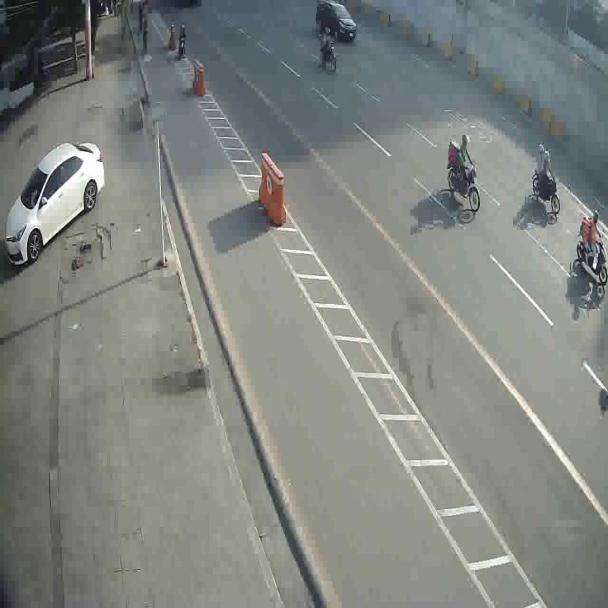motorcyclist: (446, 127, 479, 215), (573, 210, 606, 292), (530, 146, 560, 218), (317, 30, 339, 72)
vehicle: (8, 142, 104, 272), (316, 2, 358, 46)
